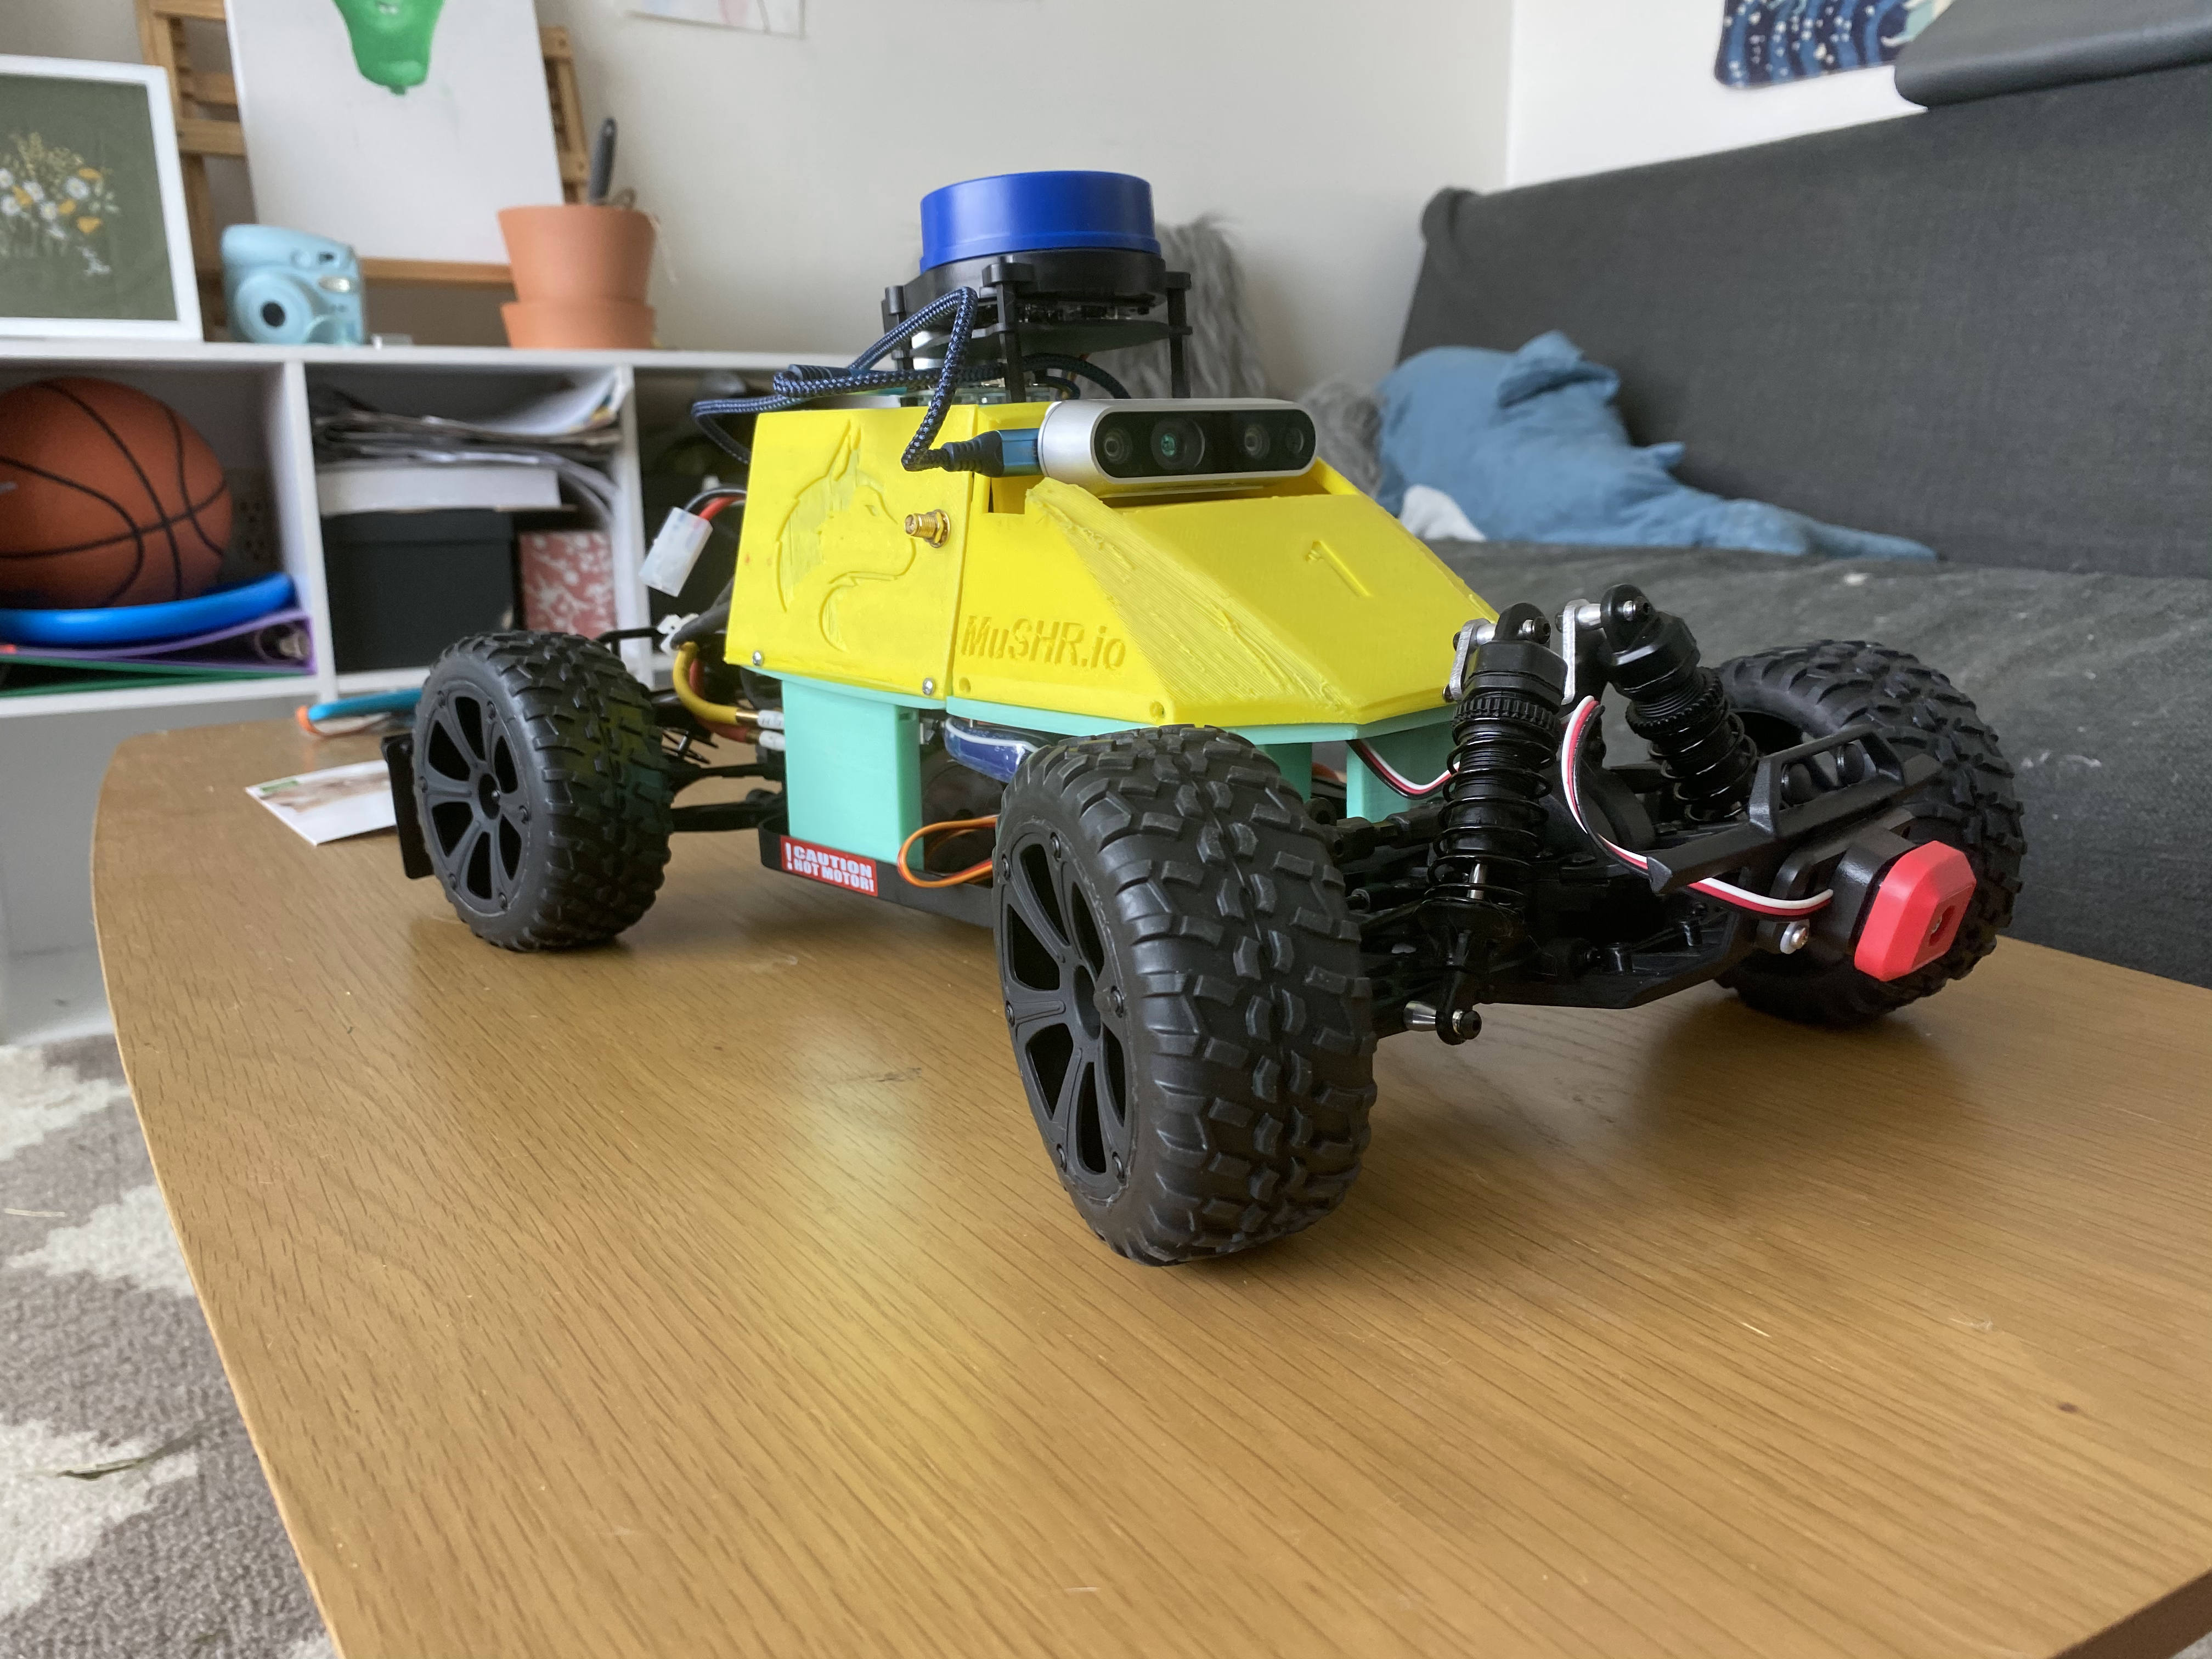mushr_car: (368, 171, 2043, 1277)
